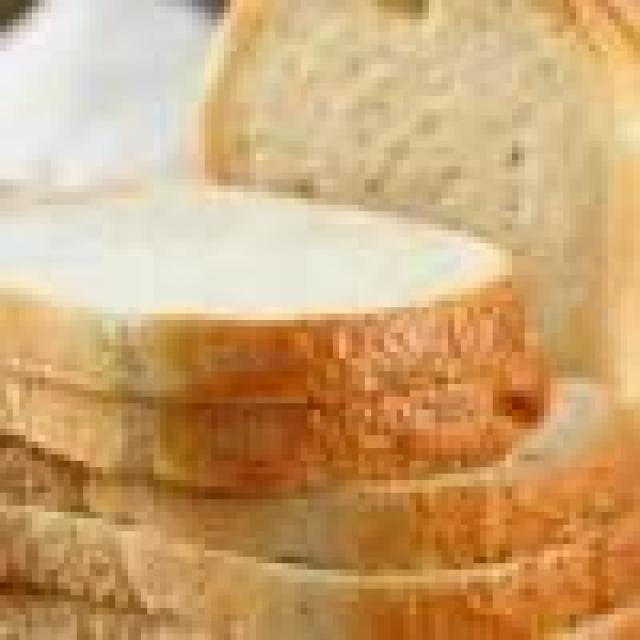Bread: (0, 201, 544, 489), (205, 1, 612, 304), (0, 0, 215, 193)
